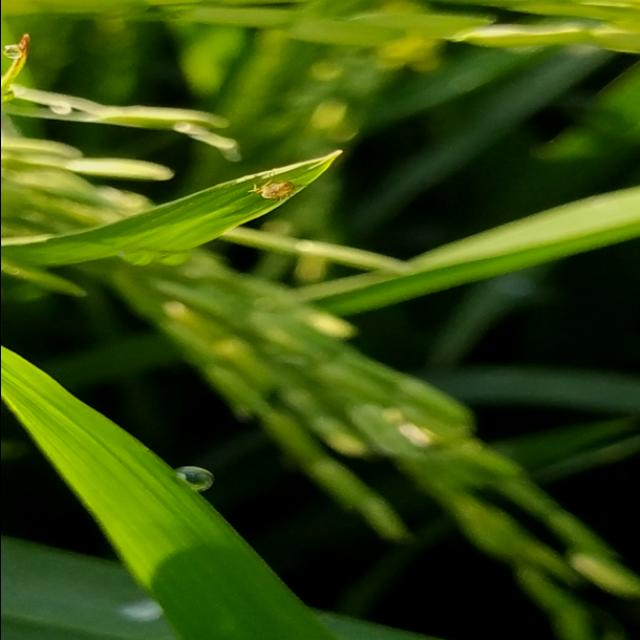healthy: (240, 166, 312, 216)
